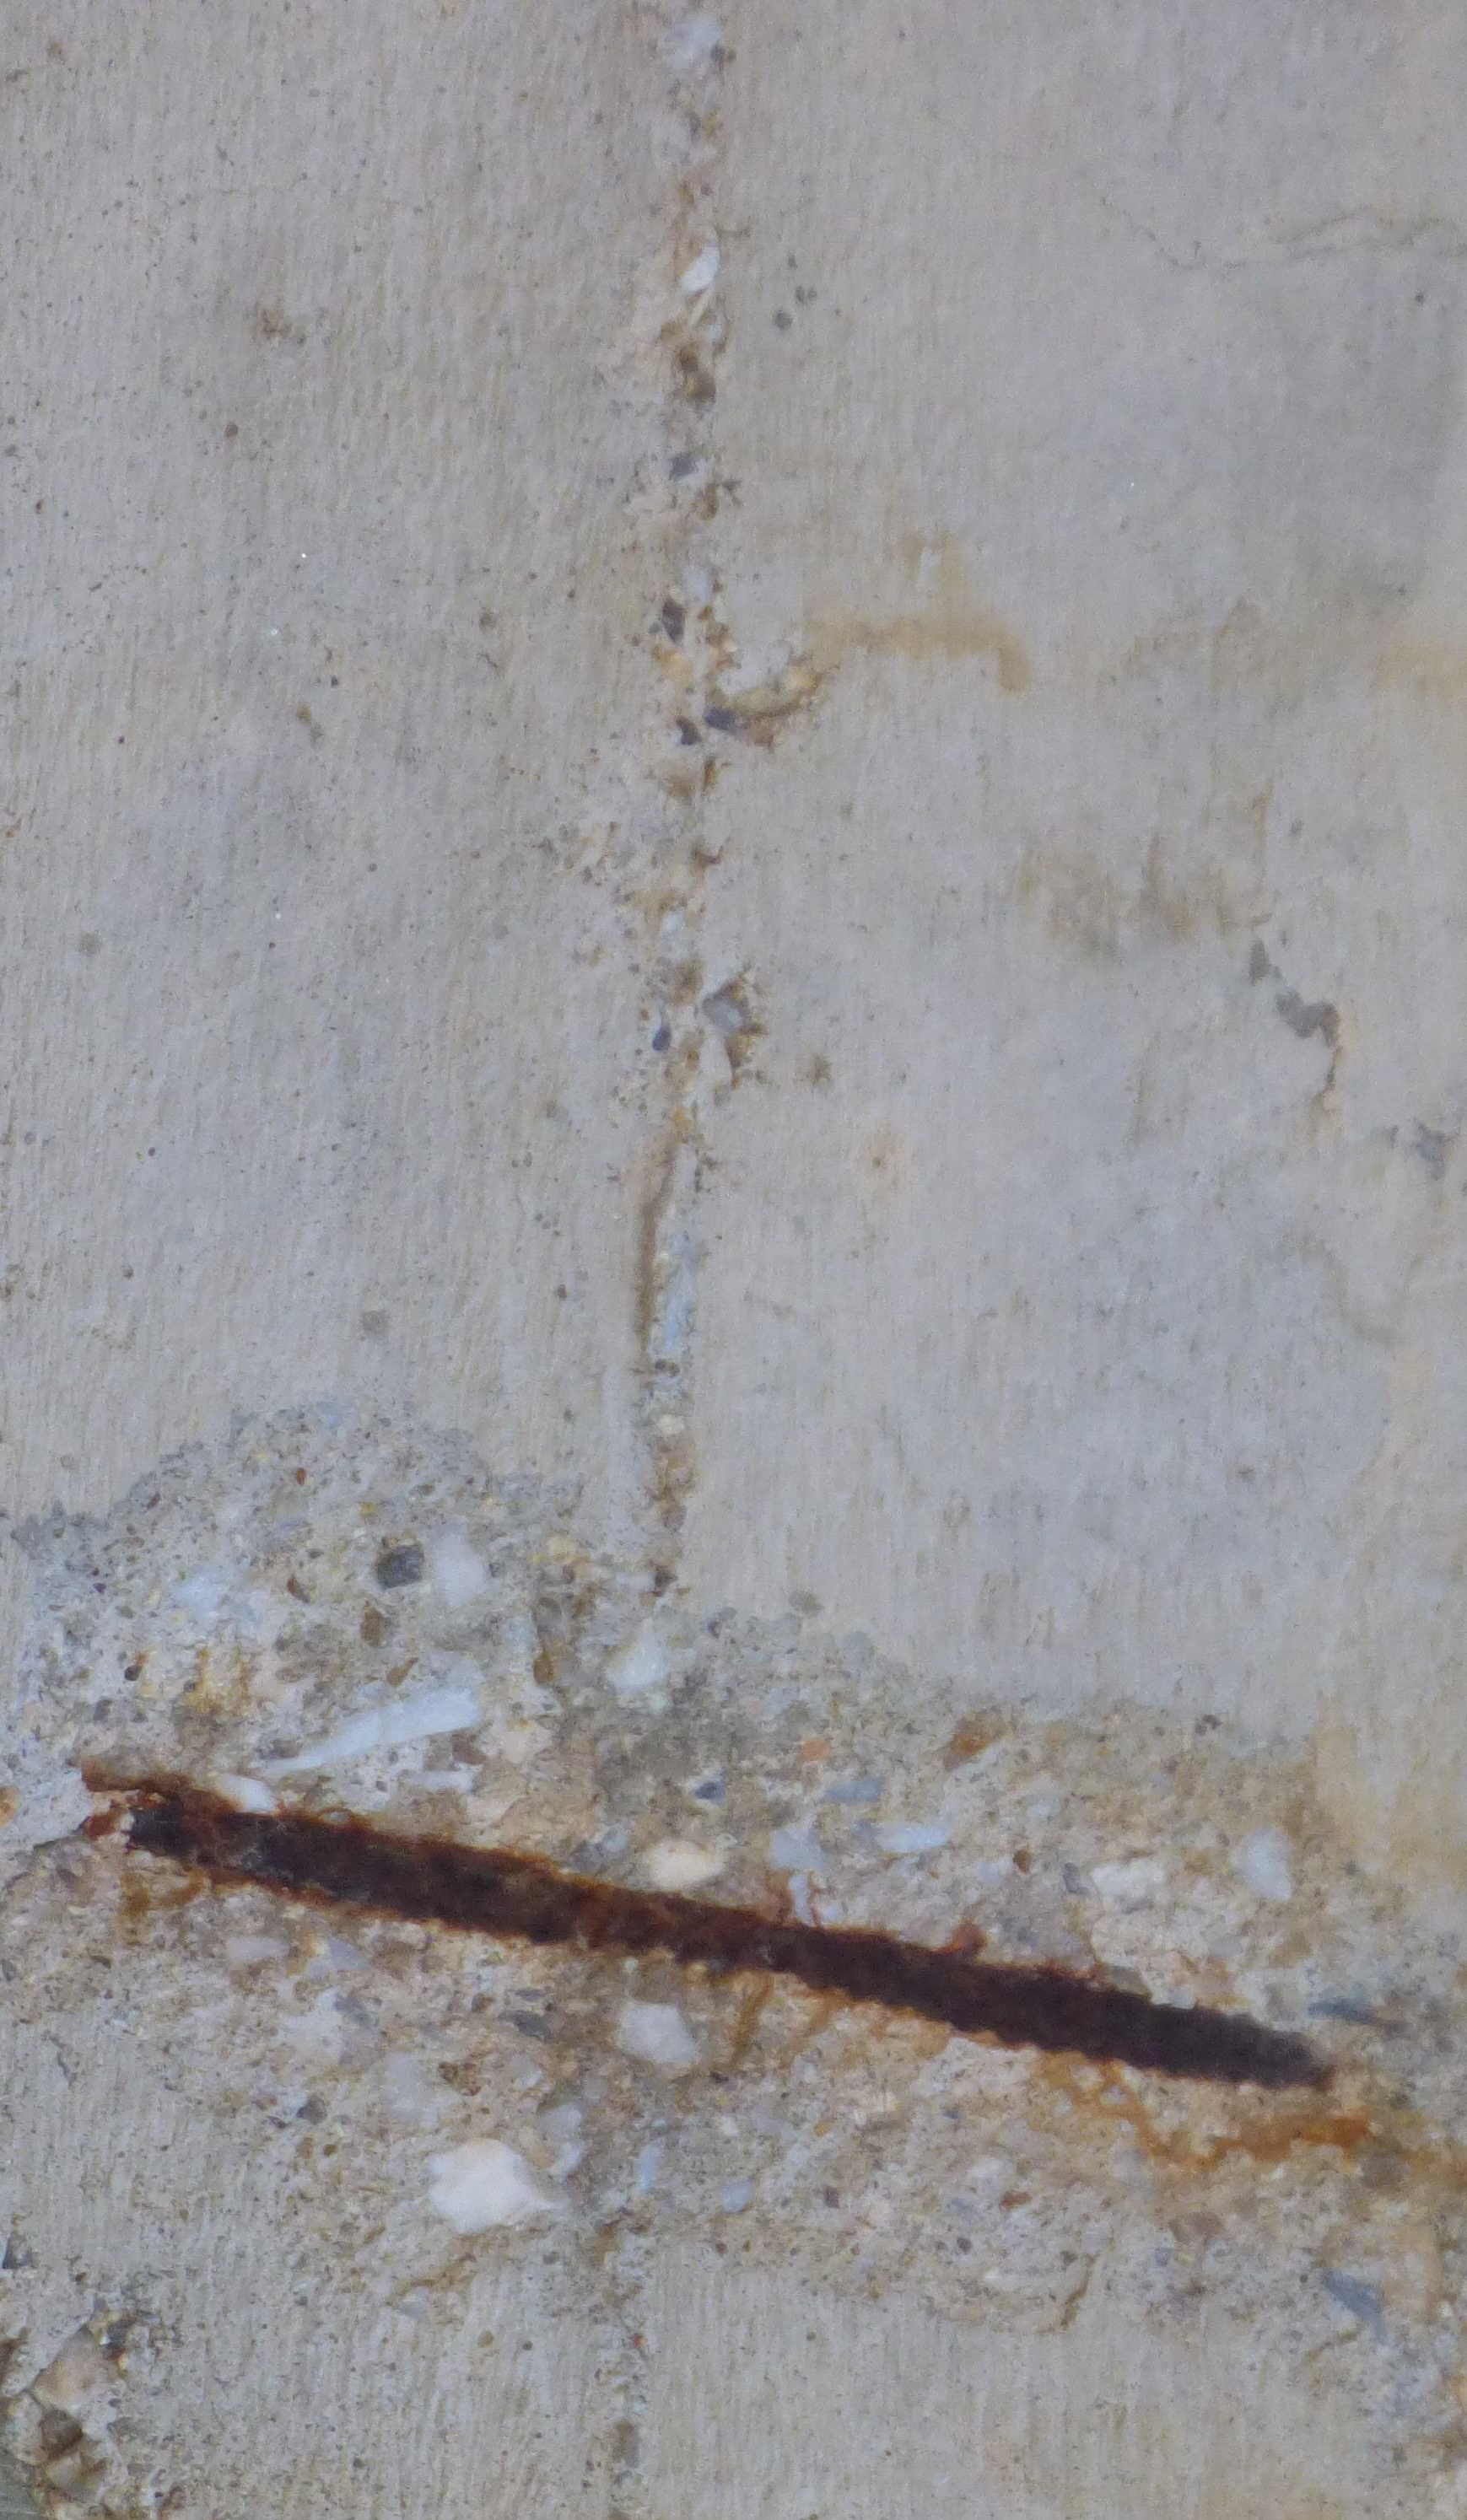Exposed reinforcement: (129, 1806, 1336, 2096)
Spalling: (0, 1403, 1467, 2459)
